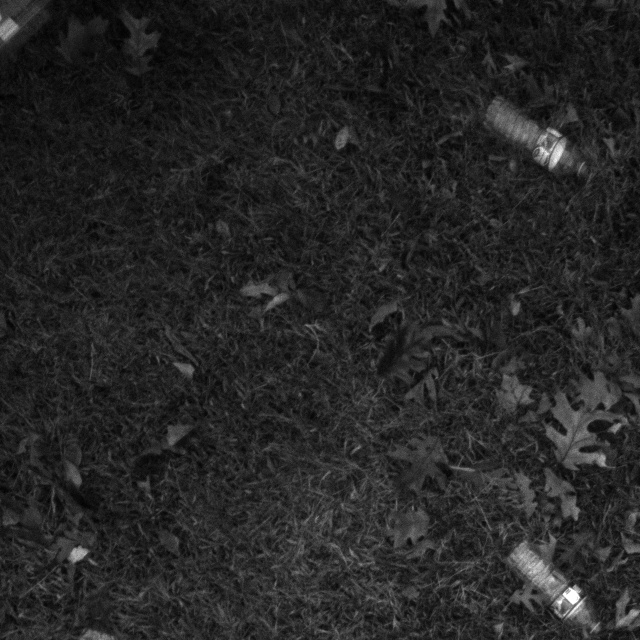bottle: (495, 531, 614, 640), (474, 87, 590, 185)
